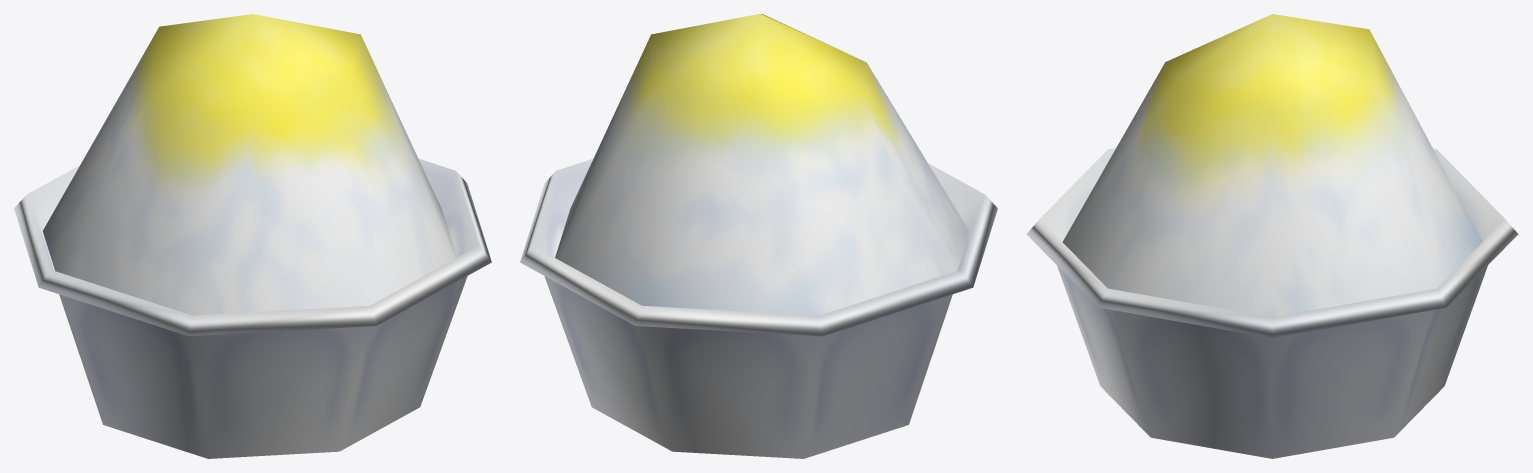
File: jsf_ShavedIce_01b.fbx
3 views of the same model, side by side, from view 1: azimuth 30°, elevation 25°; view 2: azimuth 150°, elevation 25°; view 3: azimuth 270°, elevation 25° (orthographic).
Visible parts, largest first — view 1: jsf_ShavedIce_01b; view 2: jsf_ShavedIce_01b; view 3: jsf_ShavedIce_01b.
Boxes of the visible parts, box(x1,y1,x2,y2) form: jsf_ShavedIce_01b: box(14, 14, 491, 458); jsf_ShavedIce_01b: box(520, 14, 997, 458); jsf_ShavedIce_01b: box(1026, 14, 1518, 458).
Size of the model in its own units: 12 by 10.01 by 12.
